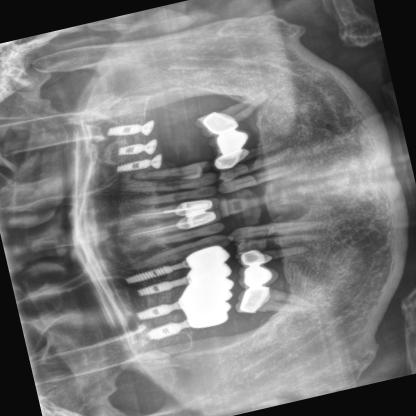Bicon: (115, 254, 200, 288), (129, 271, 201, 302), (138, 313, 197, 349), (100, 111, 164, 143), (108, 132, 172, 162), (110, 152, 168, 181), (128, 294, 182, 324)
